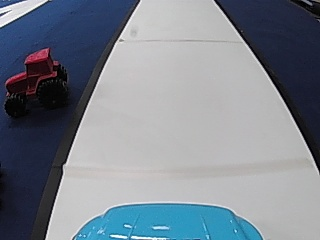tractor: (1, 46, 69, 117)
